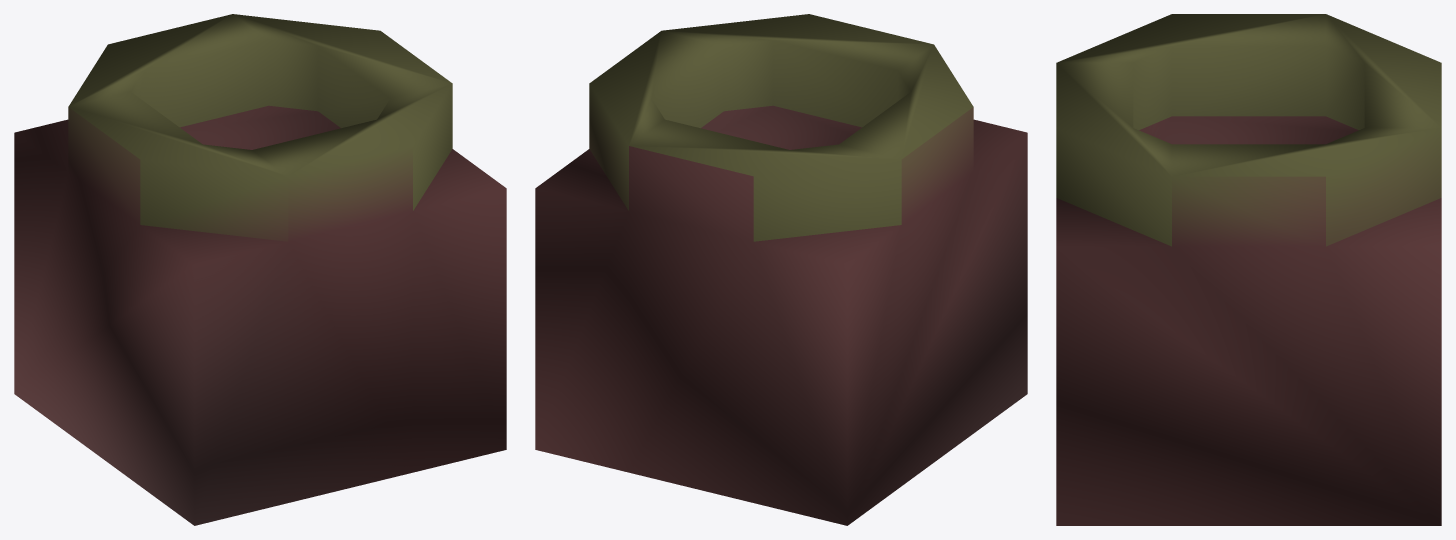
Rendered from habitat.glb.
The picture shows the model from 3 angles, left to right: view 1: azimuth 30°, elevation 25°; view 2: azimuth 150°, elevation 25°; view 3: azimuth 270°, elevation 25°; orthographic projection. The views are drawn at different scales.
Visible parts, largest first — view 1: habitat; view 2: habitat; view 3: habitat.
Boxes of the visible parts, bbox=[...] form: habitat: bbox=[14, 14, 506, 525]; habitat: bbox=[535, 14, 1027, 525]; habitat: bbox=[1056, 14, 1441, 525].
Size of the model in its own units: 1 by 1 by 1.
